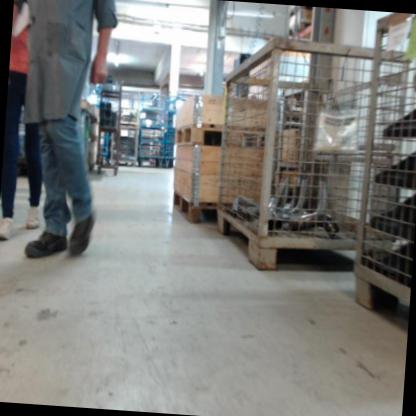pallet: (173, 119, 279, 153), (171, 190, 224, 227), (289, 20, 311, 39), (288, 5, 314, 19)
stillage: (209, 35, 416, 278), (343, 11, 416, 329), (106, 123, 138, 167), (113, 104, 141, 130)
